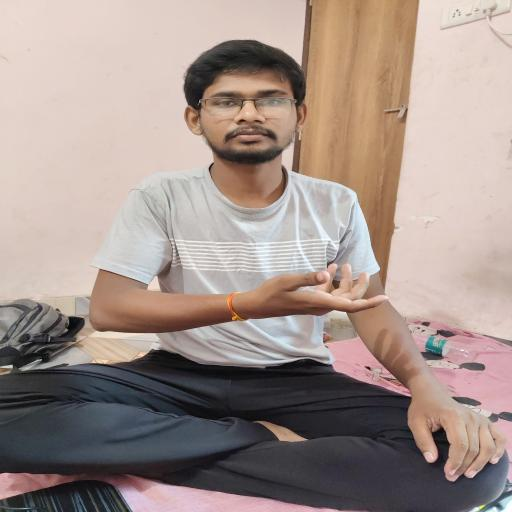Help: (225, 256, 411, 352)
